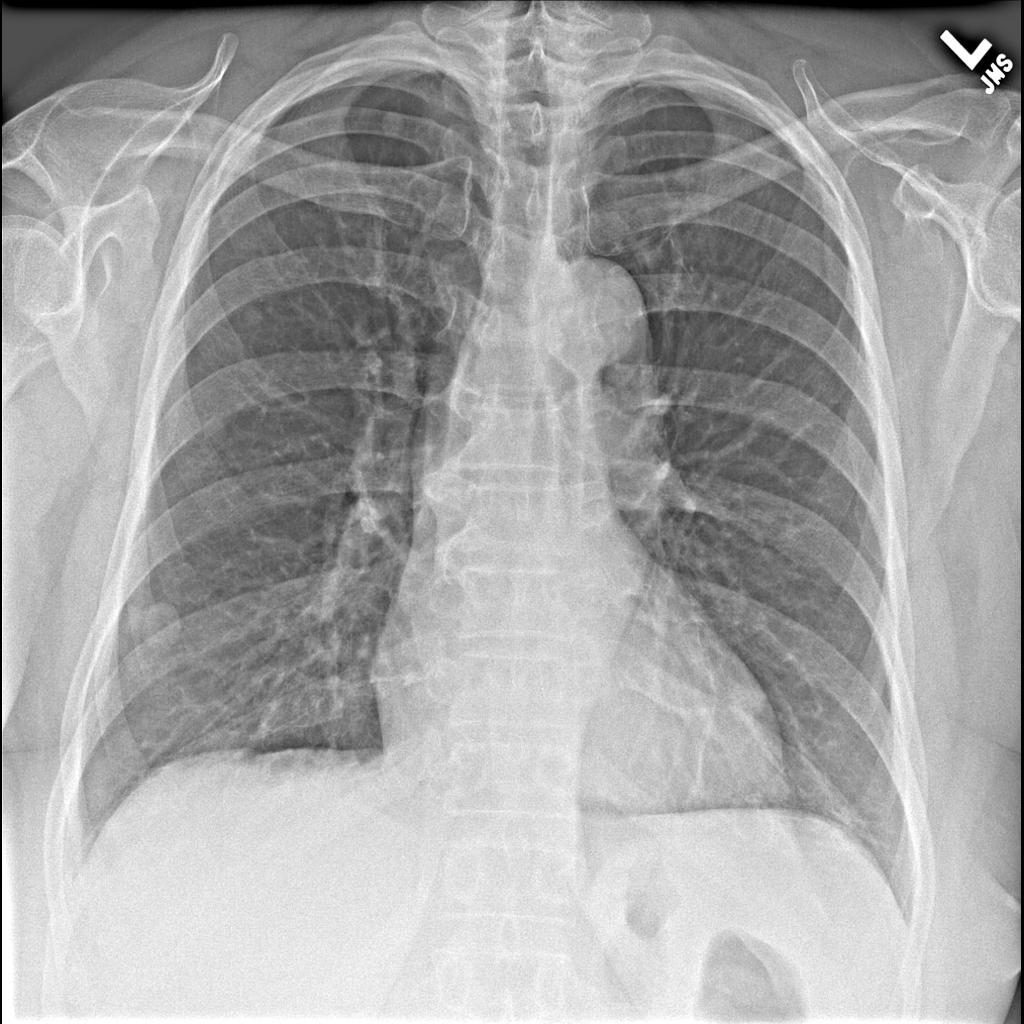Nodule: (135, 593, 184, 653)
